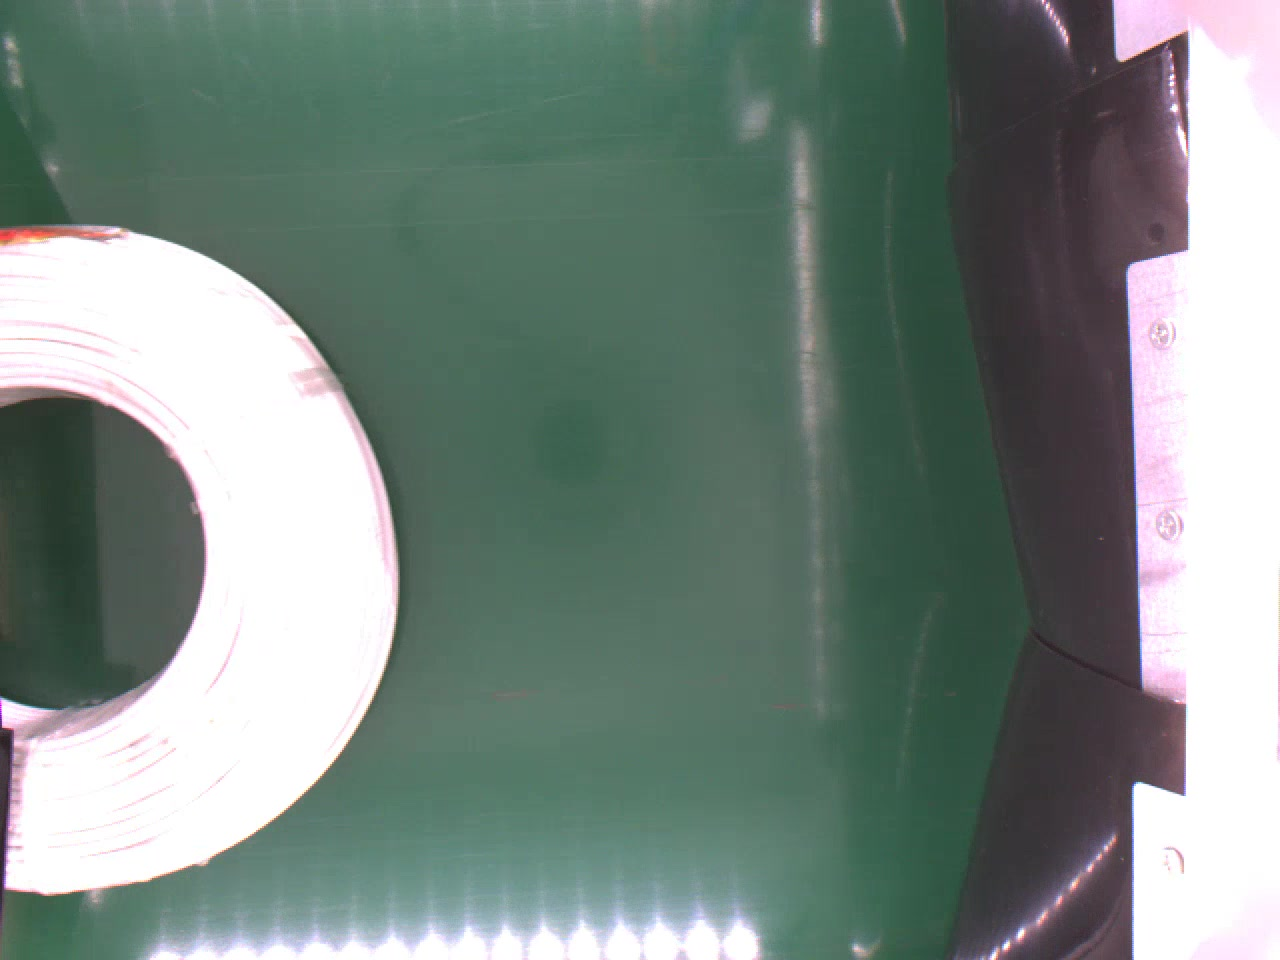white: (0, 225, 399, 898)
